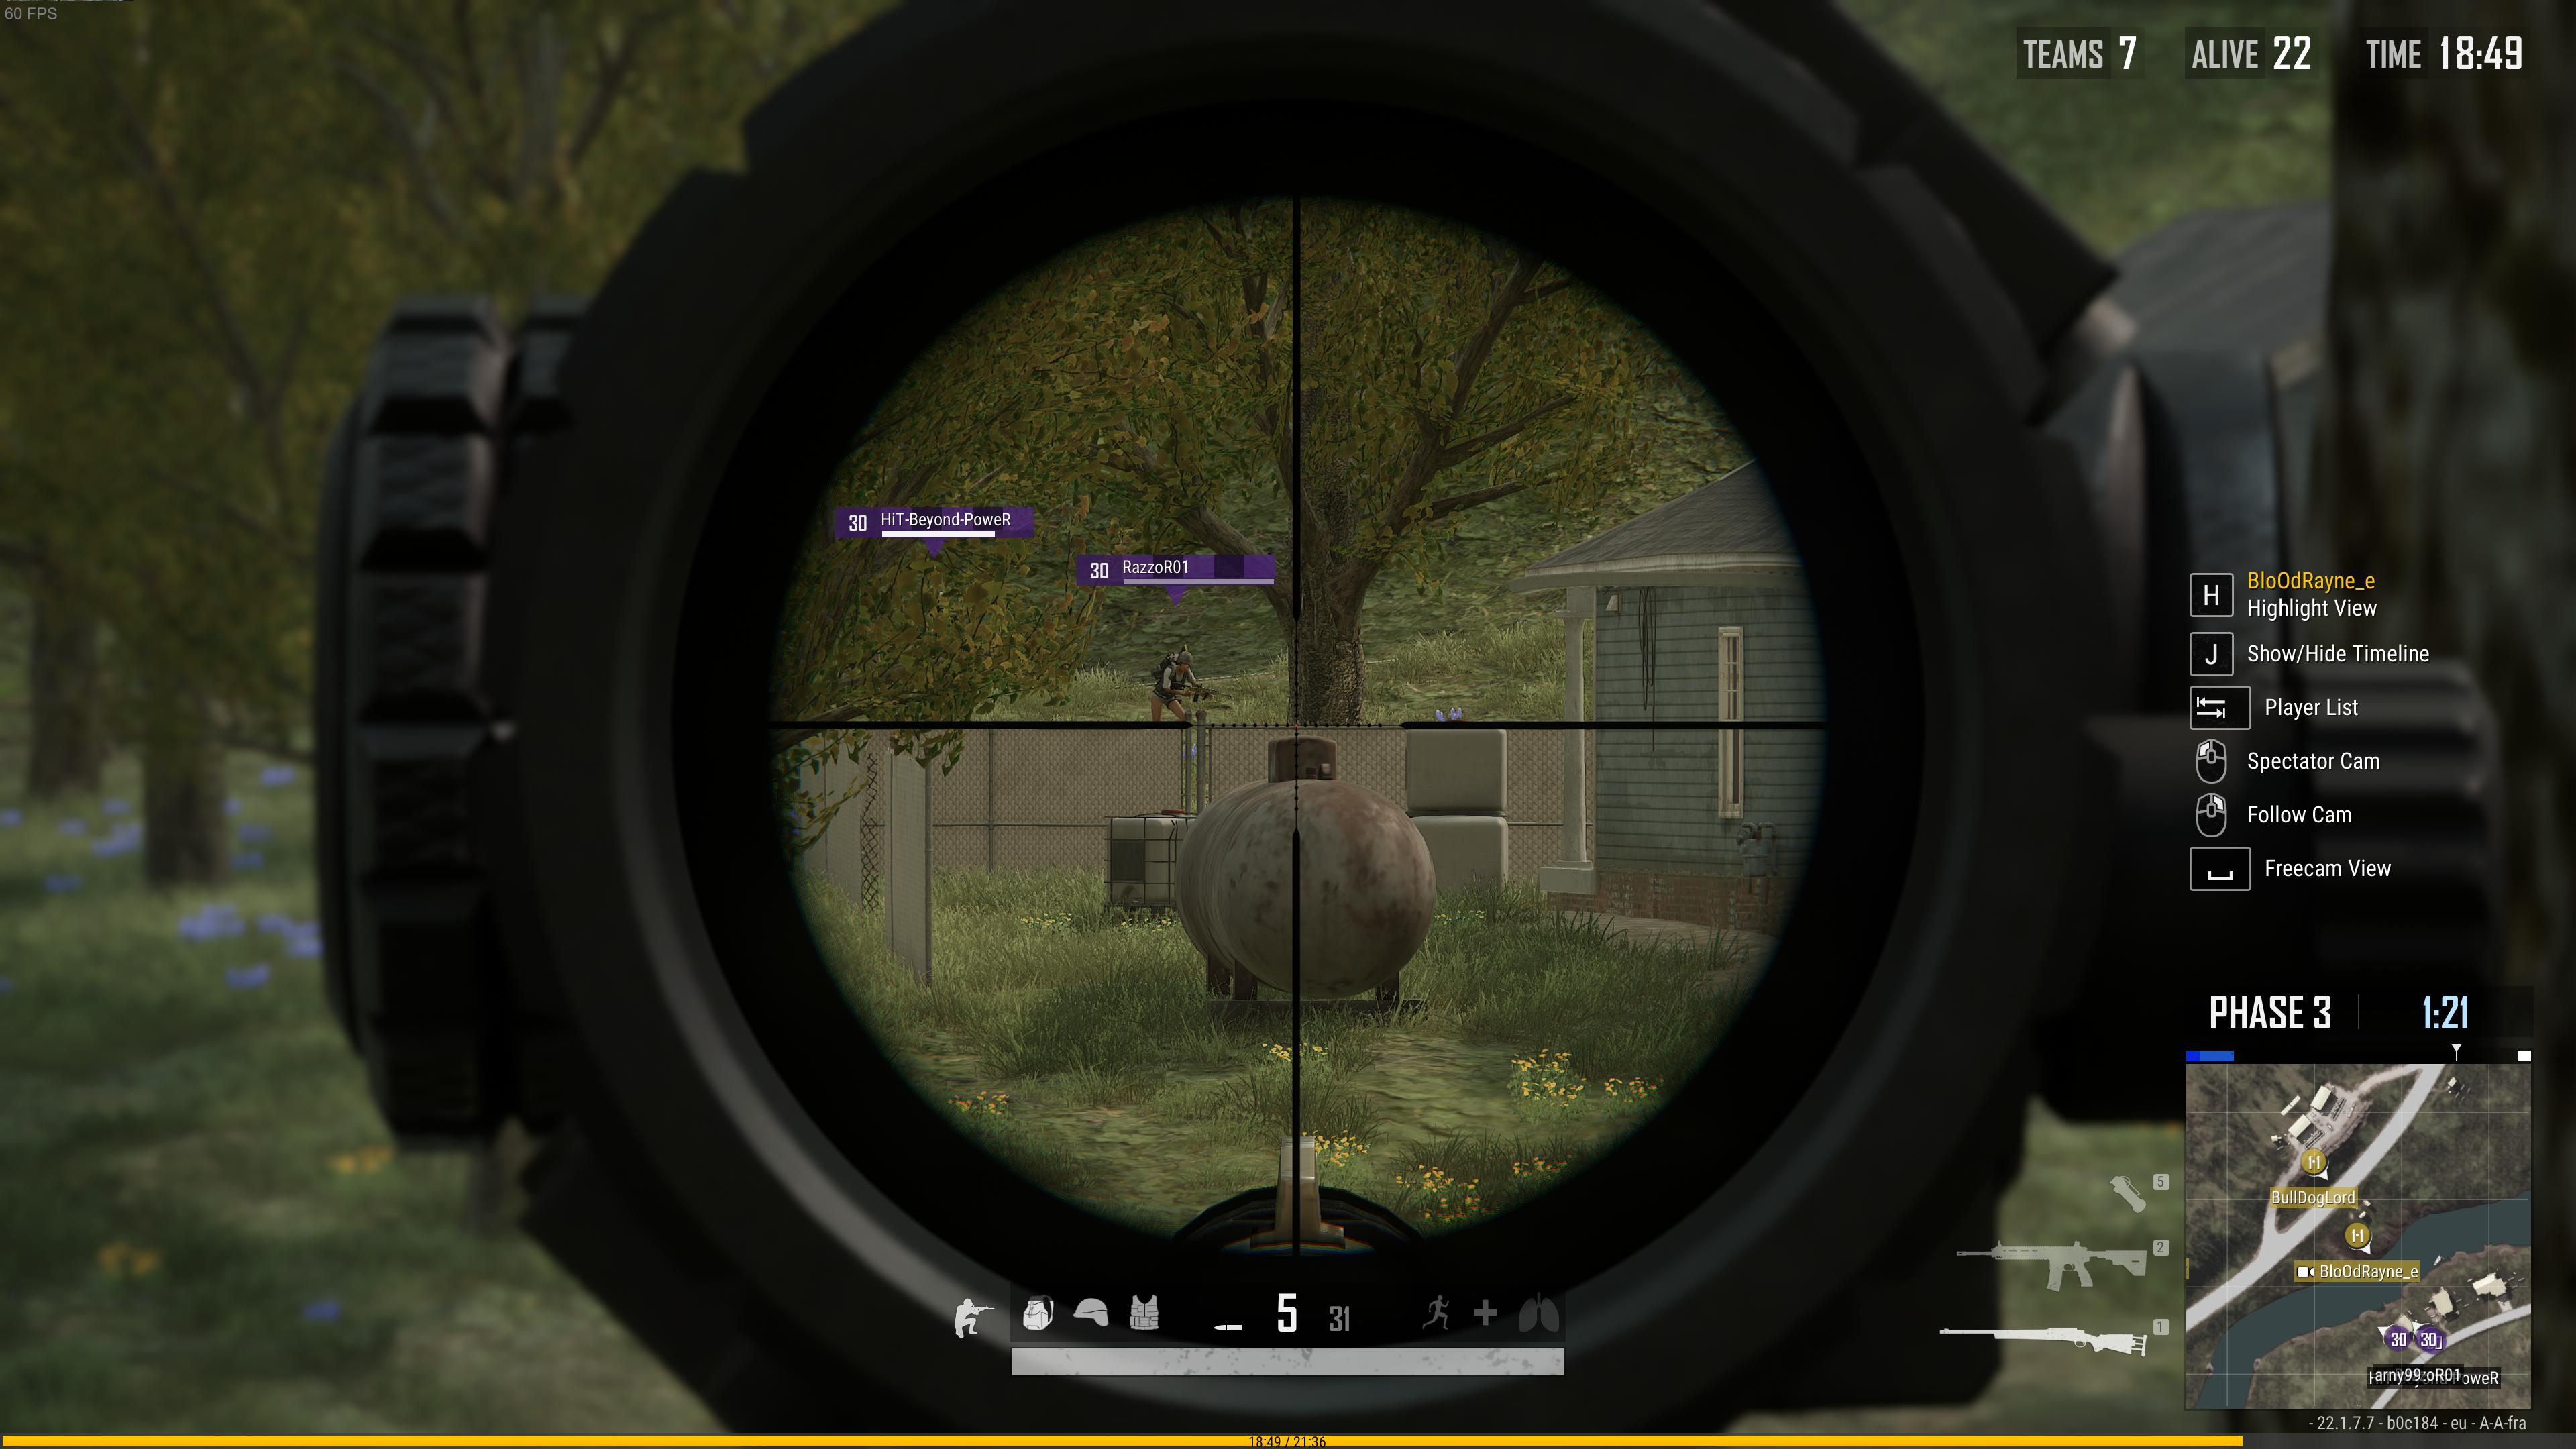enemy: (1146, 642, 1214, 722)
enemy_head: (1177, 649, 1194, 672)
